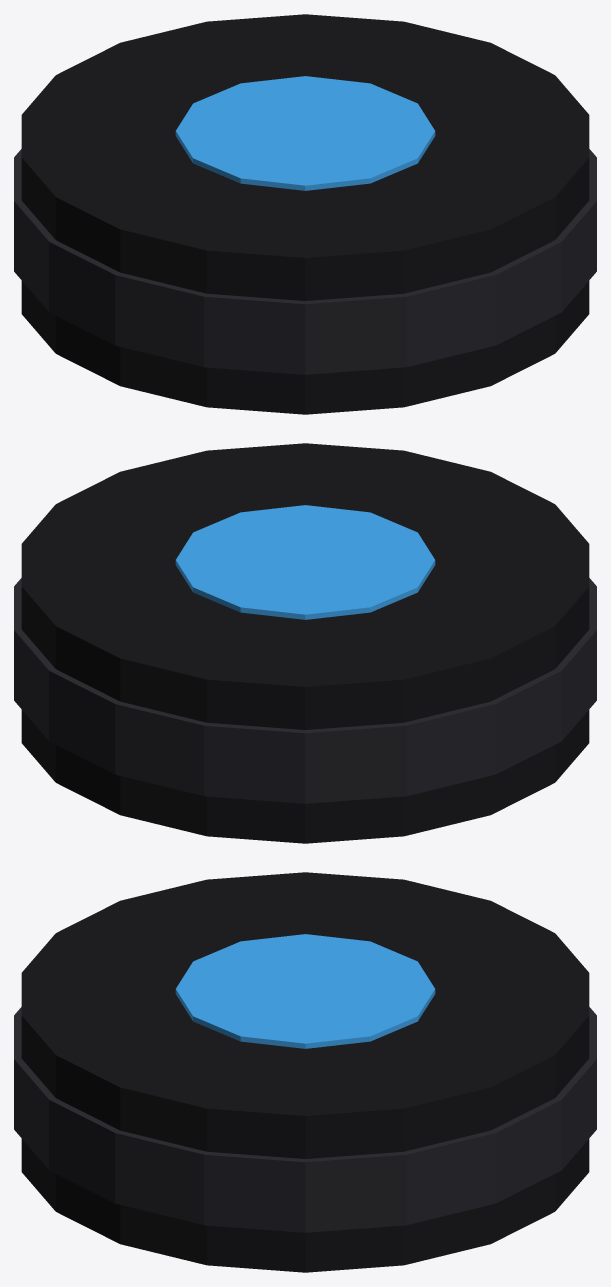
The model's file is puck.glb.
3 renders of one model, top to bottom at view 1: azimuth 30°, elevation 25°; view 2: azimuth 150°, elevation 25°; view 3: azimuth 270°, elevation 25°, orthographic.
Visible parts, largest first — view 1: ice_puck_body; view 2: ice_puck_body; view 3: ice_puck_body.
Part boxes in pixels (box(x1,y1,x2,y2)): ice_puck_body: box(14, 14, 596, 414); ice_puck_body: box(14, 443, 596, 843); ice_puck_body: box(14, 872, 596, 1272).
Bounding box in the file's own units: 0.308 × 0.093 × 0.3033.
1 material, 1 textured.
